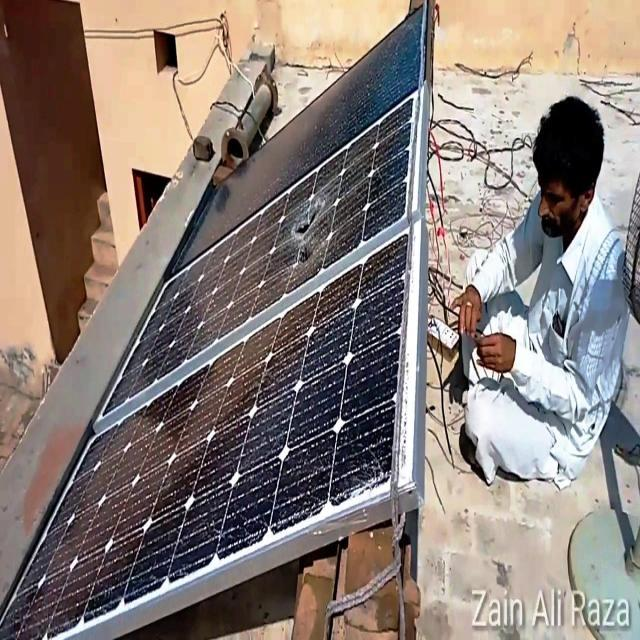faulty: (0, 225, 422, 640), (96, 90, 424, 430)
